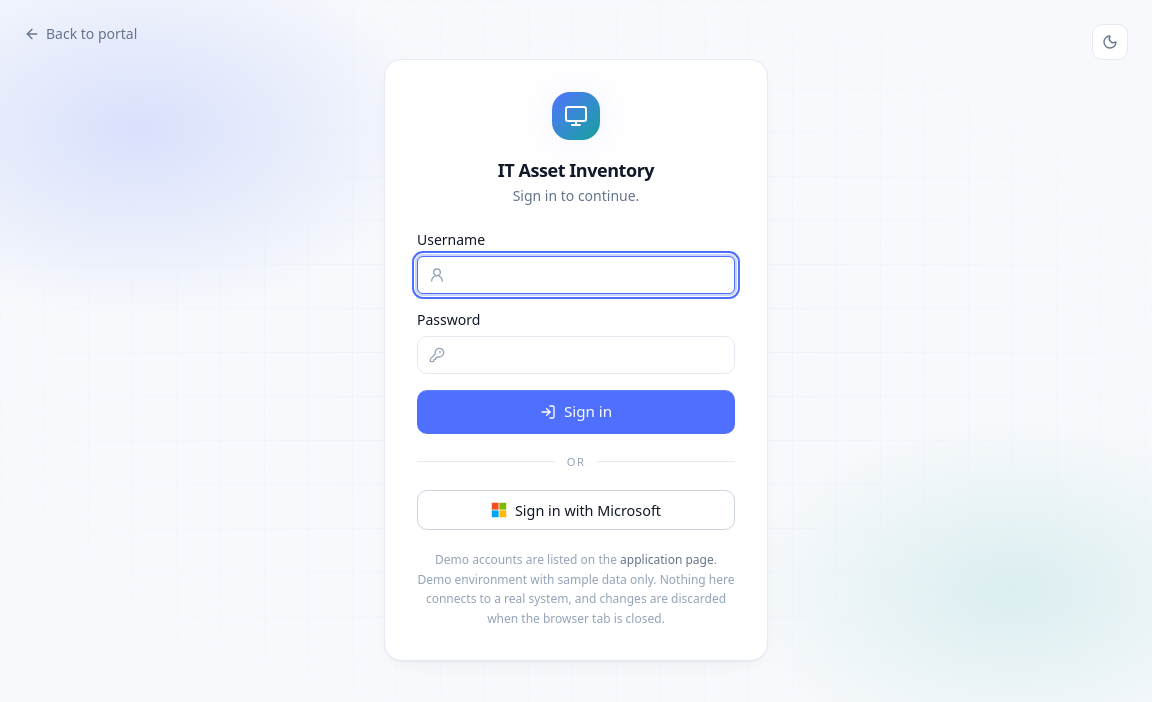
it: Asset Management demo › hides the audit log and settings from a standard user
Expected: the heading "IT Asset Inventory" is shown, [498,158,654,182]
Type "user" into the field labelled "Username" at (576, 275), box [417,256,735,294]
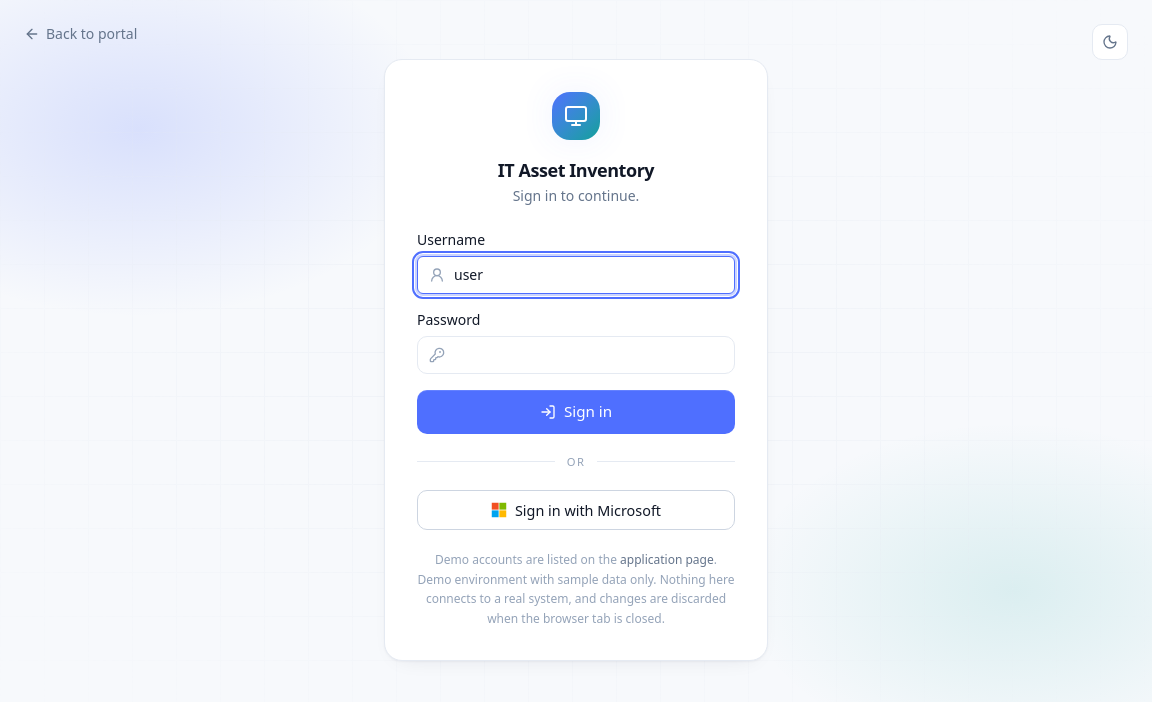
Type "User@1234" into the password field labelled "Password" at (576, 355), box [417,336,735,374]
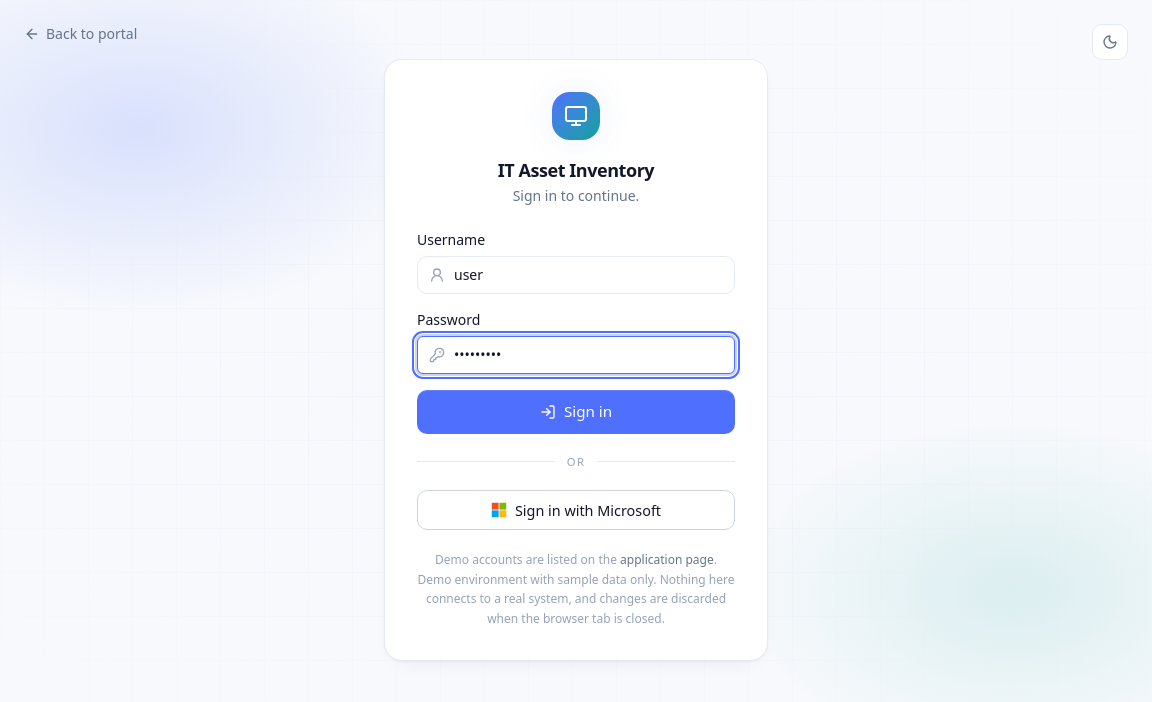
Click the button "Sign in" at (576, 412), box [417,390,735,434]
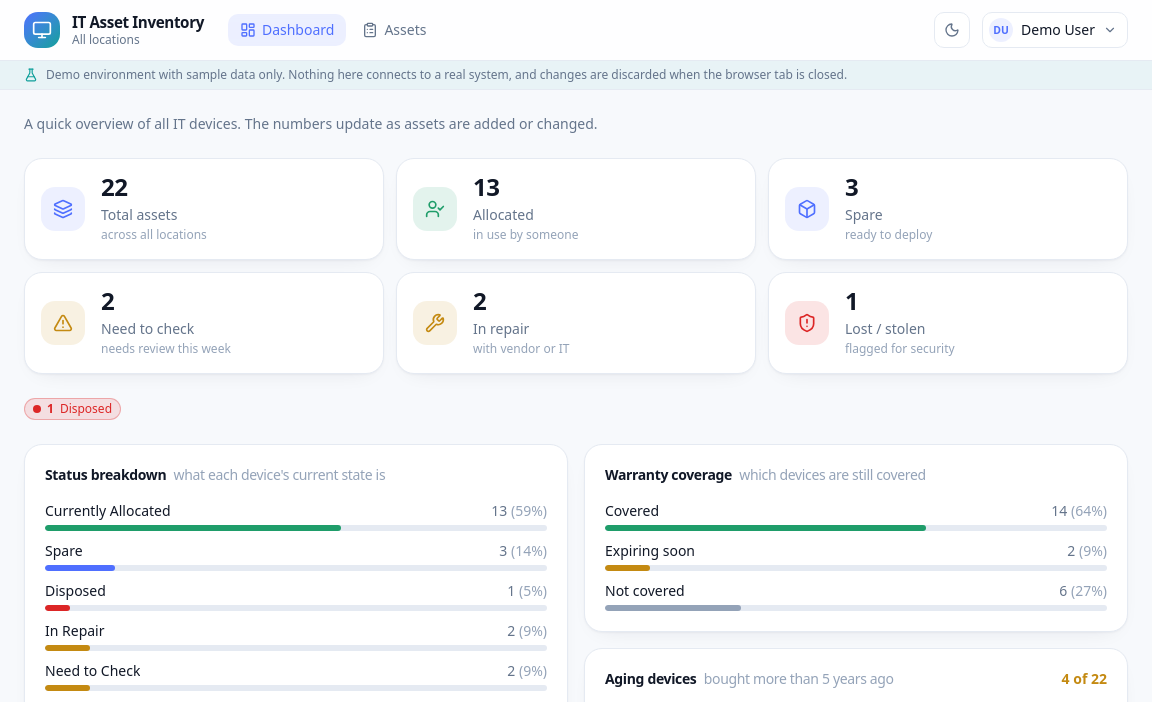
Click the button "DU Demo User" at (1055, 30), box [982,12,1128,48]
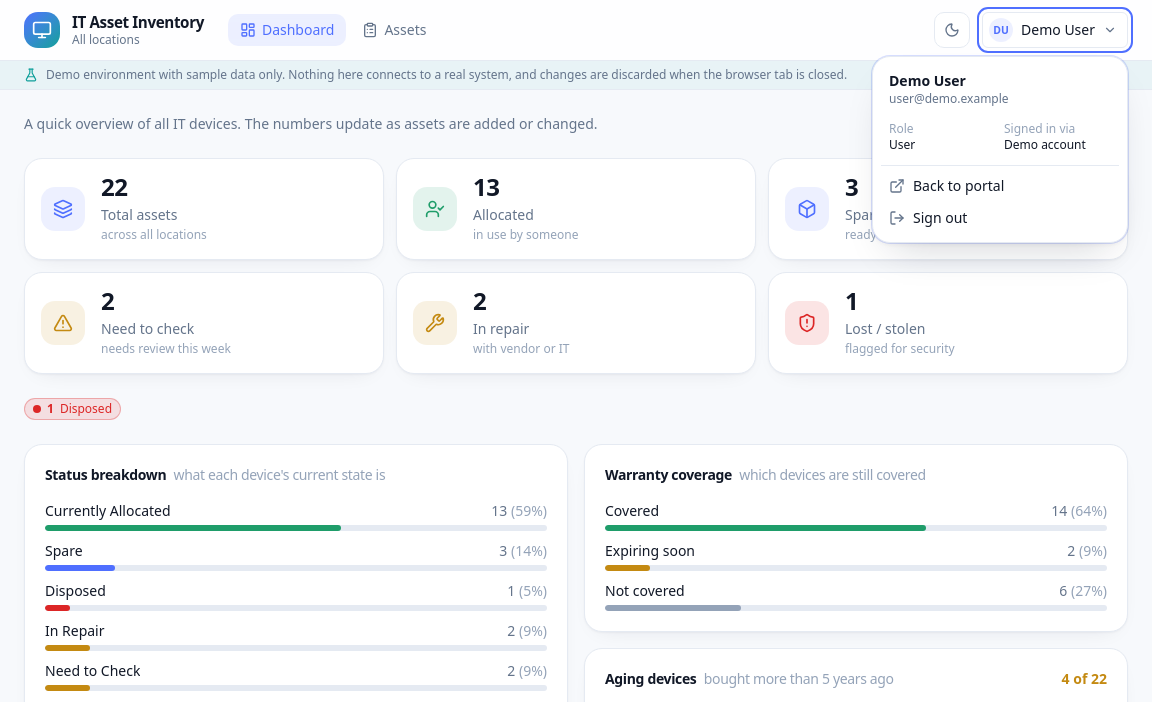
Result: the menu item "Sign out" is shown at [881,202,1119,234]
